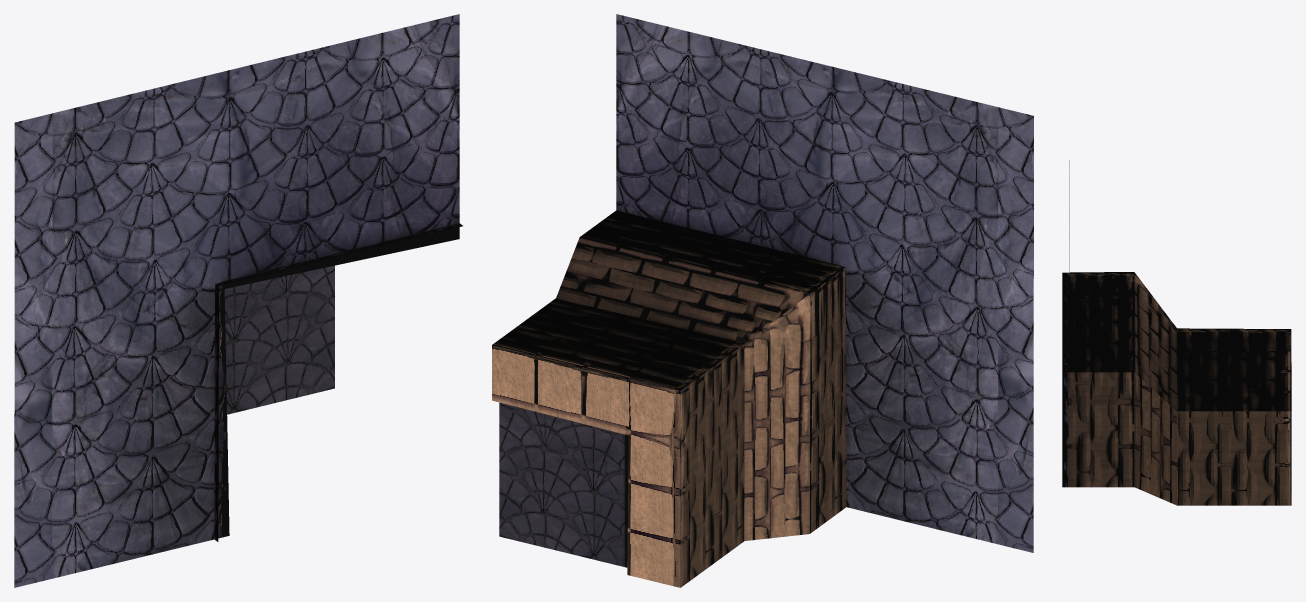
Rendered from ex_OutCorner1.obj.
The picture shows the model from 3 angles, left to right: view 1: azimuth 30°, elevation 25°; view 2: azimuth 150°, elevation 25°; view 3: azimuth 270°, elevation 25°; orthographic projection. The views are drawn at different scales.
Parts seen in each view (by area): view 1: ex_OutCorner1_Plane.101, object 2; view 2: ex_OutCorner1_Plane.101, object 2; view 3: ex_OutCorner1_Plane.101.
Part boxes in pixels (<box>): ex_OutCorner1_Plane.101: <box>14,14,462,587</box>; object 2: <box>224,265,334,414</box>; ex_OutCorner1_Plane.101: <box>492,14,1033,587</box>; object 2: <box>499,402,628,567</box>; ex_OutCorner1_Plane.101: <box>1062,160,1291,505</box>.
Size of the model in its own units: 256 by 256 by 136.
